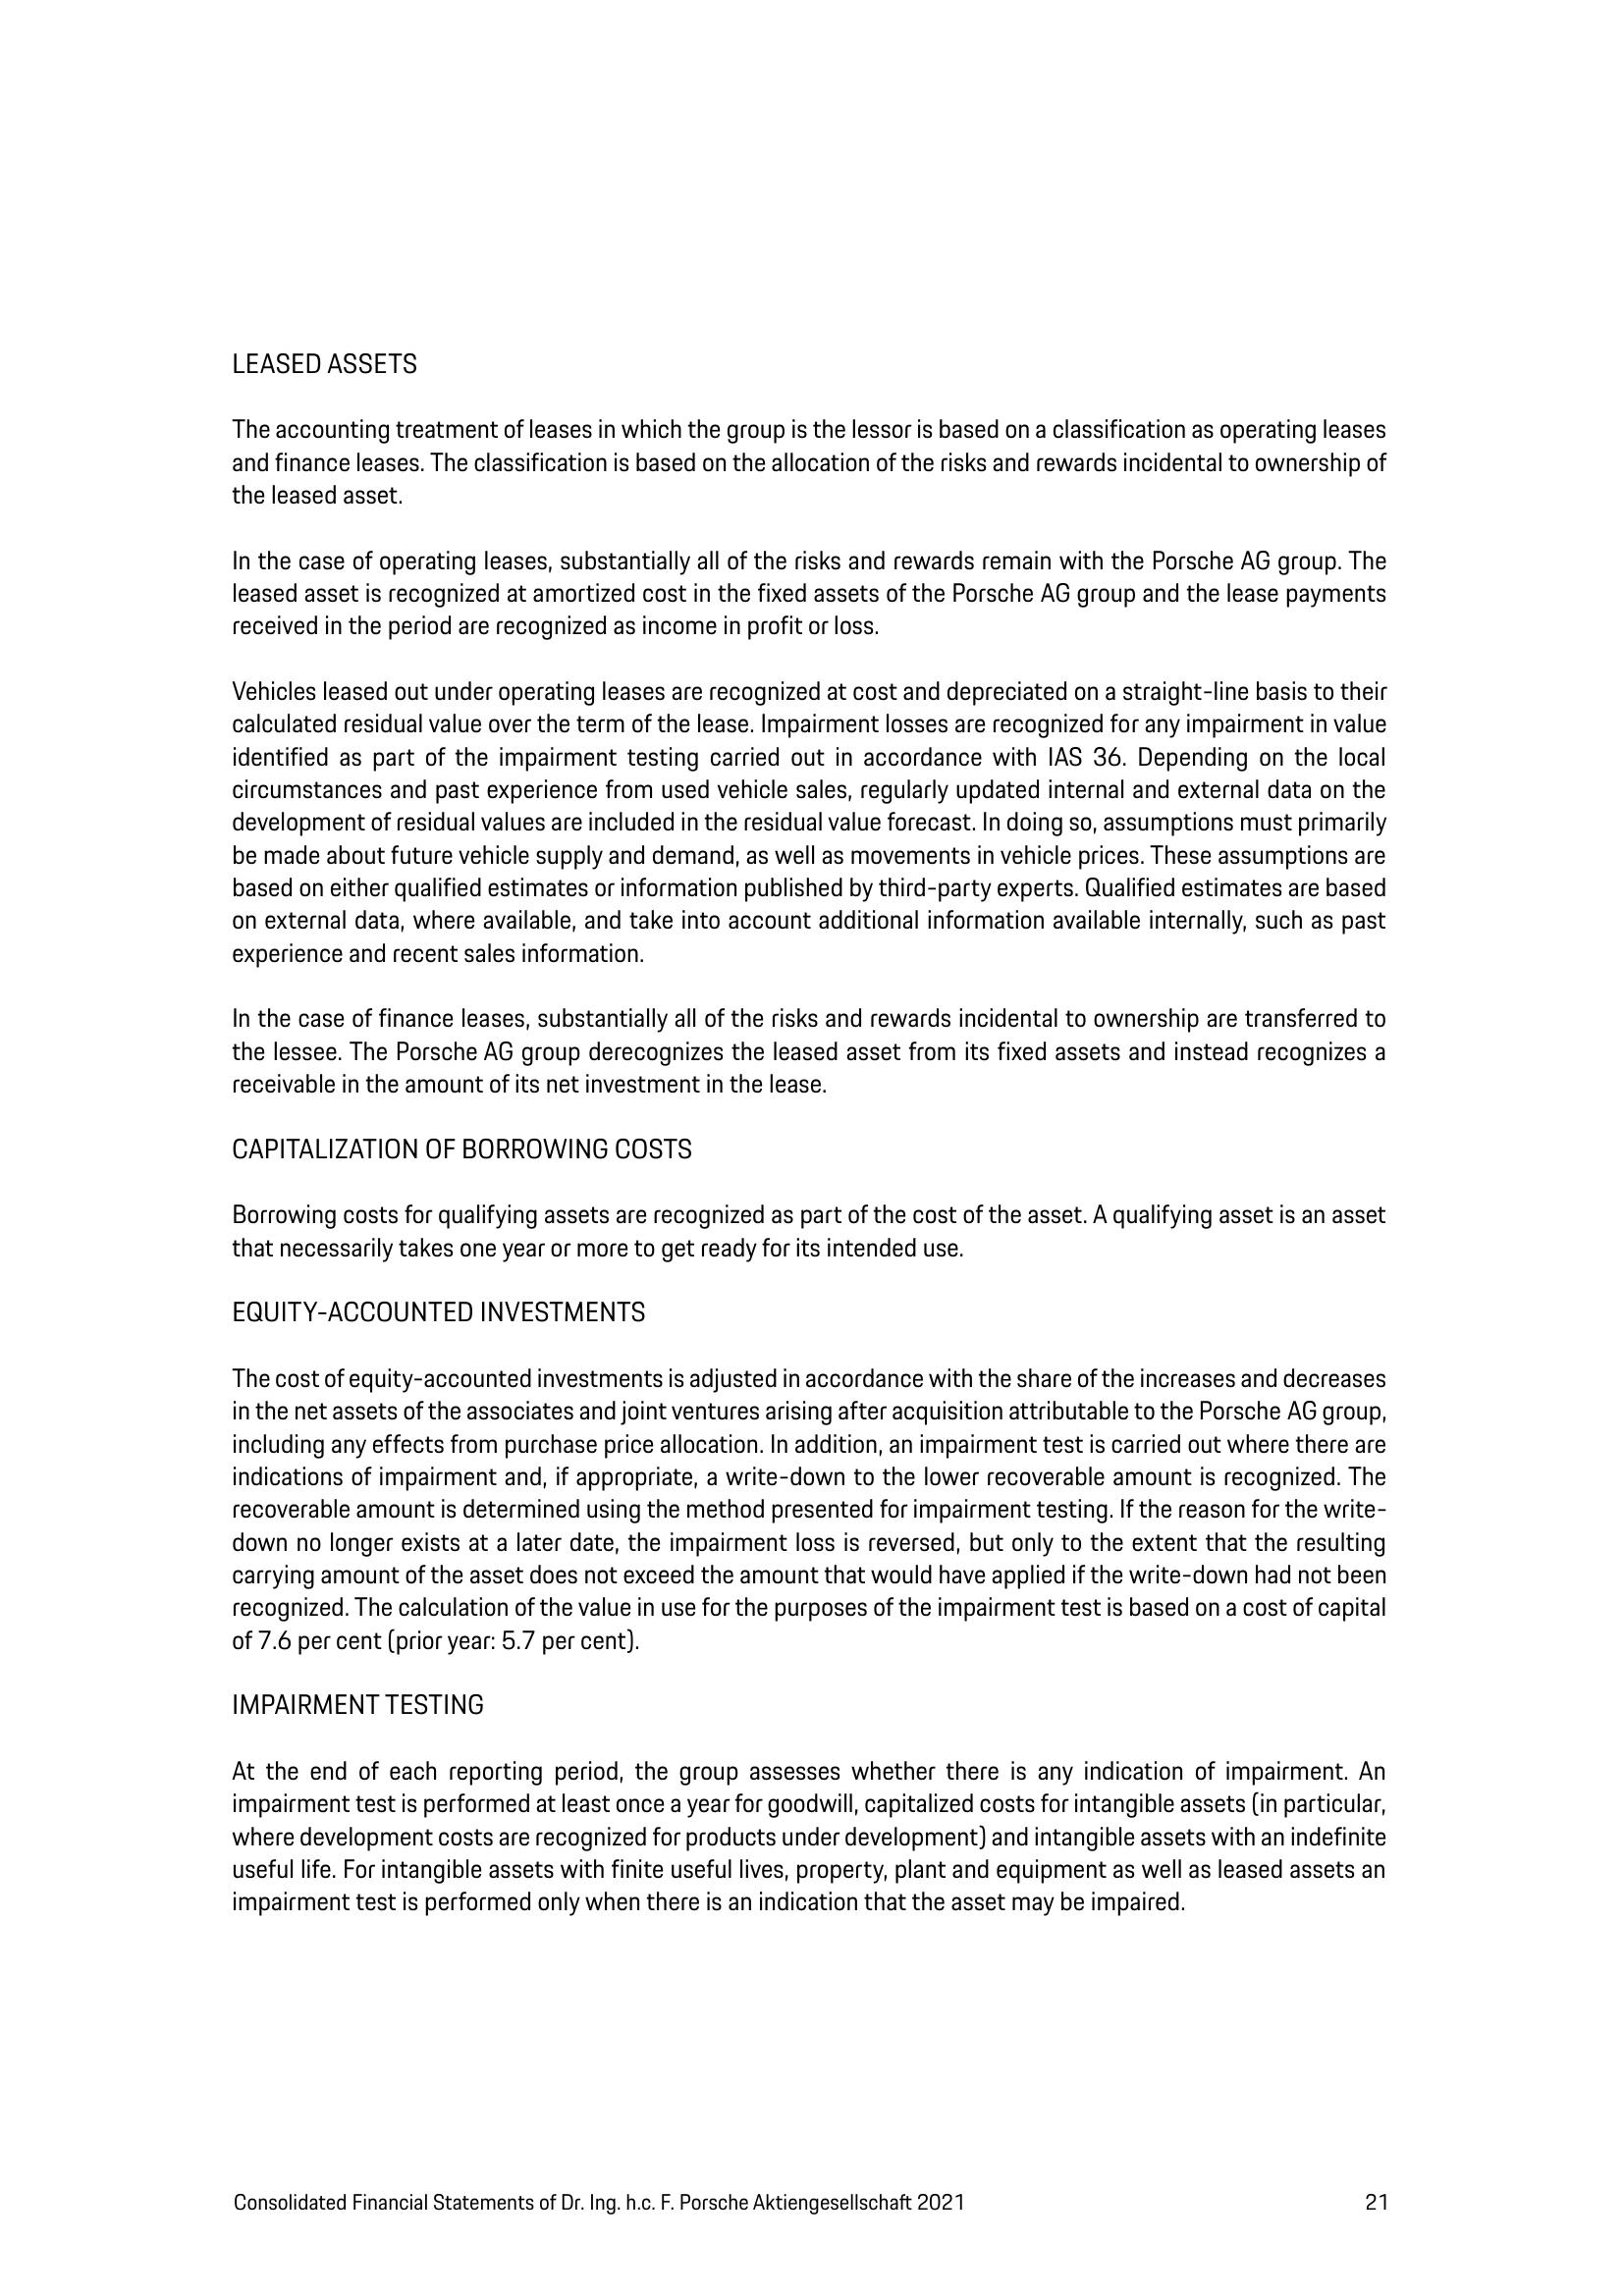Footer: (0, 2139, 1624, 2296)
Header: (0, 0, 1624, 219)
